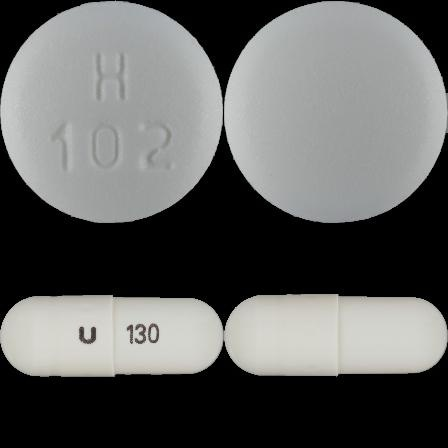58118-0102: (0, 0, 224, 224)
